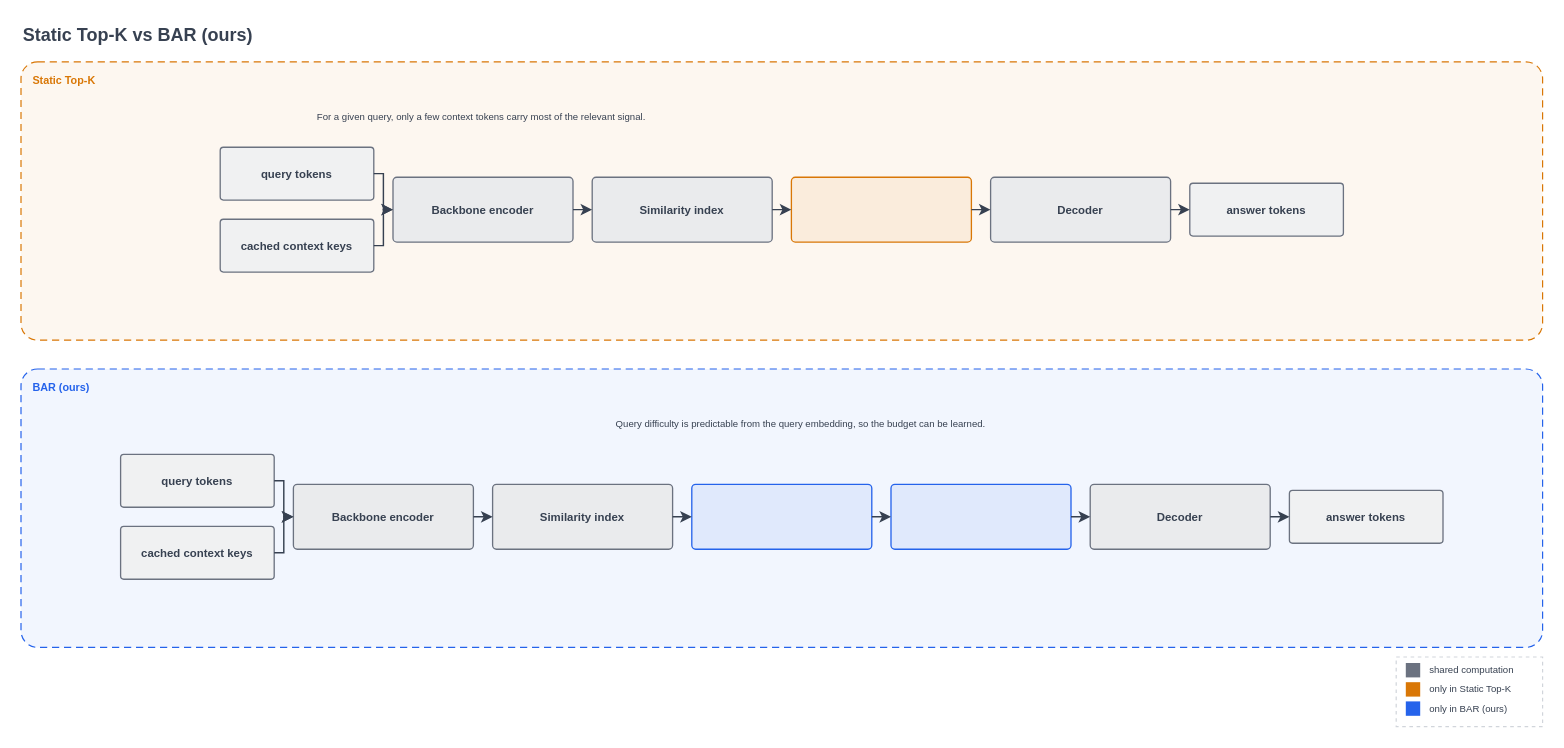
Image size: 1564x748. Some labels were removed from this diagram. The centre of each missing label's shape, as x and y in pixels:
"Budget controller" belongs at [980,516].
"Fixed Top-K selection" belongs at [881,209].
"Learned router" belongs at [781,516].
